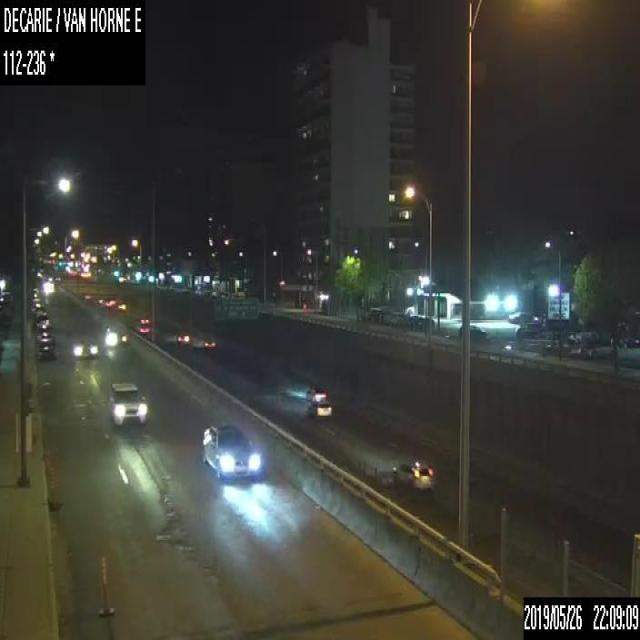construction: (42, 440, 60, 509), (98, 556, 115, 616)
vehicle: (201, 423, 263, 480), (107, 381, 148, 427), (391, 458, 436, 490), (72, 332, 97, 358), (102, 322, 126, 347), (308, 400, 332, 418), (458, 324, 486, 339), (514, 320, 538, 336), (305, 384, 326, 402), (36, 341, 53, 360), (508, 310, 531, 322), (136, 317, 150, 332), (200, 337, 216, 350), (36, 332, 52, 345), (35, 304, 47, 320), (36, 312, 49, 325), (35, 323, 50, 334), (174, 331, 188, 341)
